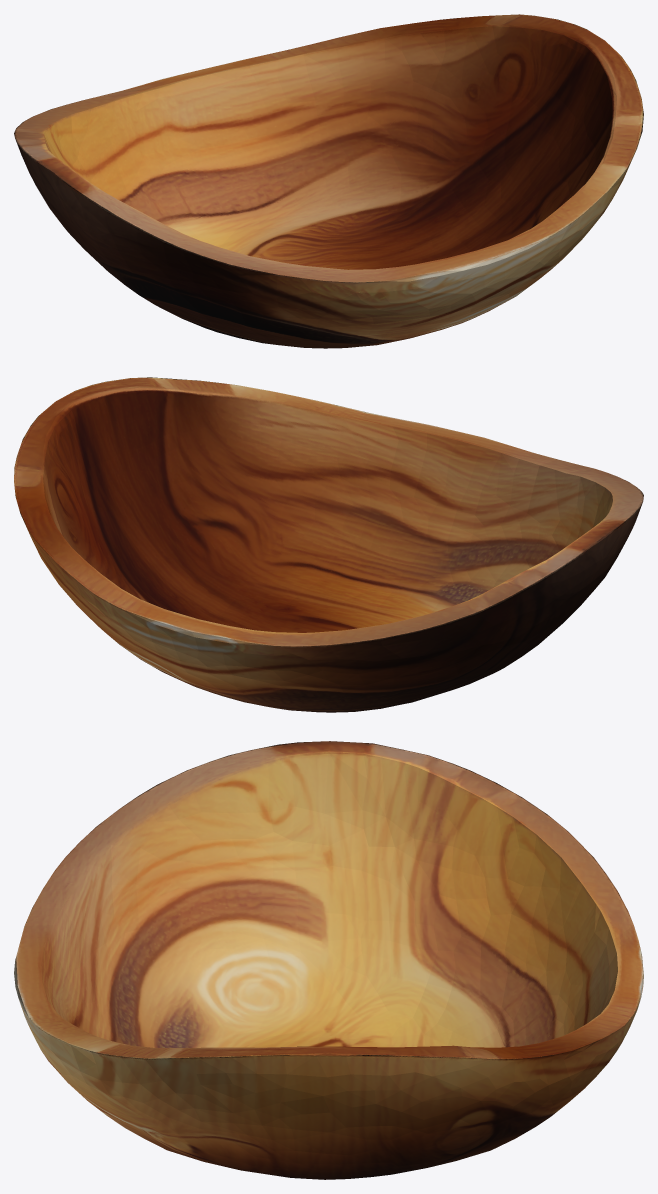
File: wooden-salad-bowl-dune.jpeg.glb
3 renders of one model, top to bottom at view 1: azimuth 30°, elevation 25°; view 2: azimuth 150°, elevation 25°; view 3: azimuth 270°, elevation 25°, orthographic. The views are drawn at different scales.
Parts seen in each view (by area): view 1: world; view 2: world; view 3: world.
Part boxes in pixels (x1,y1,x2,y2): world: (14, 14, 643, 348); world: (14, 377, 643, 712); world: (14, 741, 643, 1179).
Size of the model in its own units: 1 by 0.3327 by 0.8515.
1 material, 1 textured.
